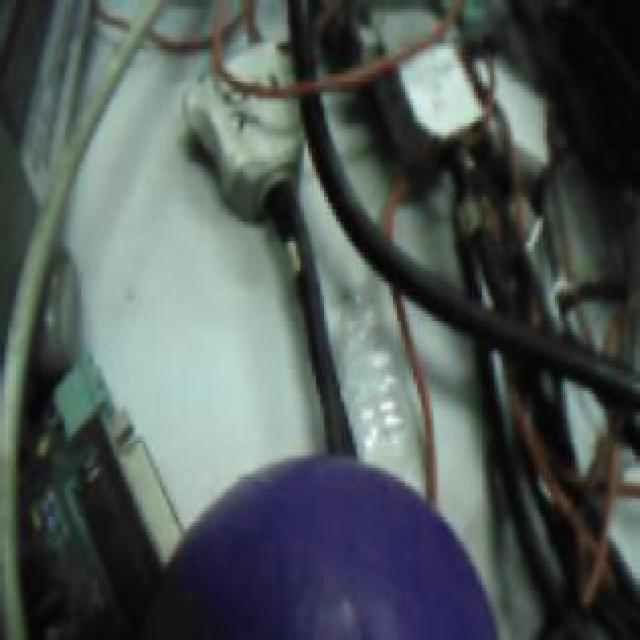BallPurple: (152, 452, 498, 640)
